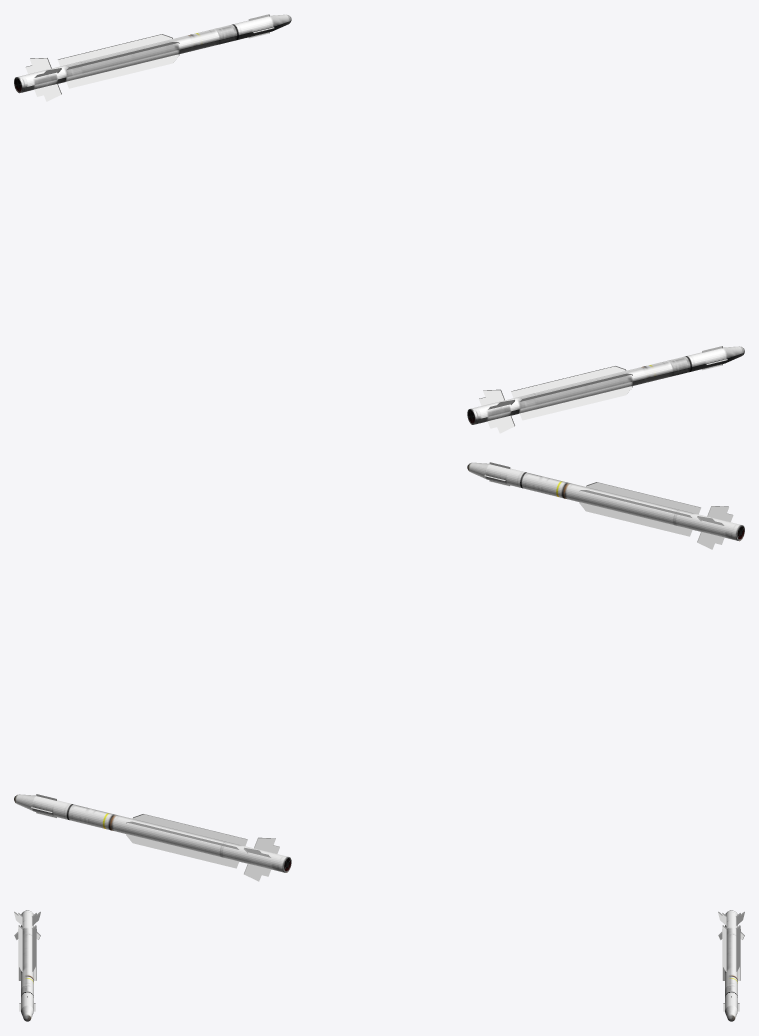
File: rafalemicair110.glb
3 renders of one model, top to bottom at view 1: azimuth 30°, elevation 25°; view 2: azimuth 150°, elevation 25°; view 3: azimuth 270°, elevation 25°, orthographic. The views are drawn at different scales.
Parts seen in each view (by area): view 1: 円柱.007, 円柱.016; view 2: 円柱.007, 円柱.016; view 3: 円柱.016, 円柱.007.
Part boxes in pixels (x1=…): 円柱.007: x1=467, y1=346, x2=744, y2=433; 円柱.016: x1=14, y1=14, x2=291, y2=101; 円柱.007: x1=467, y1=462, x2=744, y2=549; 円柱.016: x1=14, y1=794, x2=291, y2=881; 円柱.016: x1=718, y1=910, x2=744, y2=1021; 円柱.007: x1=14, y1=910, x2=40, y2=1021.
Bounding box in the file's own units: 3.55 × 0.3915 × 10.6.
Materials: 1 (1 with a texture image).
